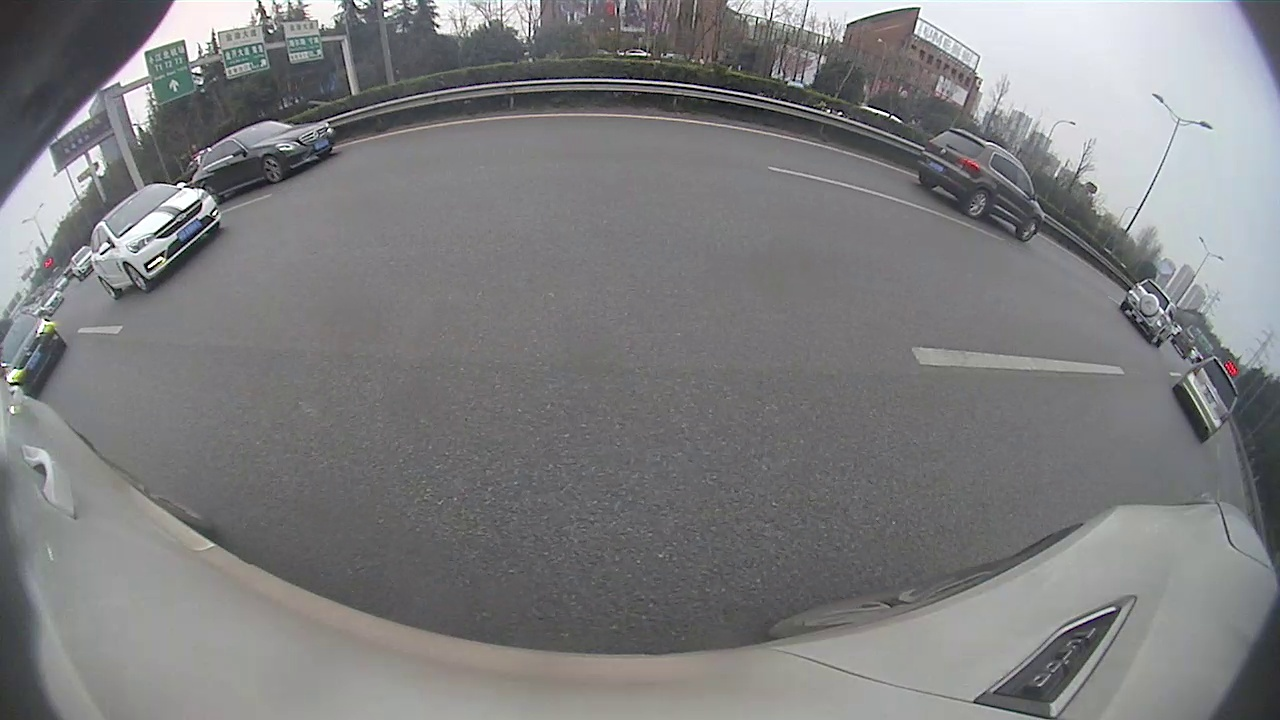car: (85, 178, 221, 300), (916, 119, 1047, 245), (192, 121, 336, 203), (1174, 347, 1241, 444), (1, 313, 65, 401), (1124, 273, 1178, 350)
front: (123, 262, 153, 295), (261, 154, 285, 185), (1016, 218, 1041, 242)
rear: (964, 188, 990, 219), (97, 275, 123, 300)
